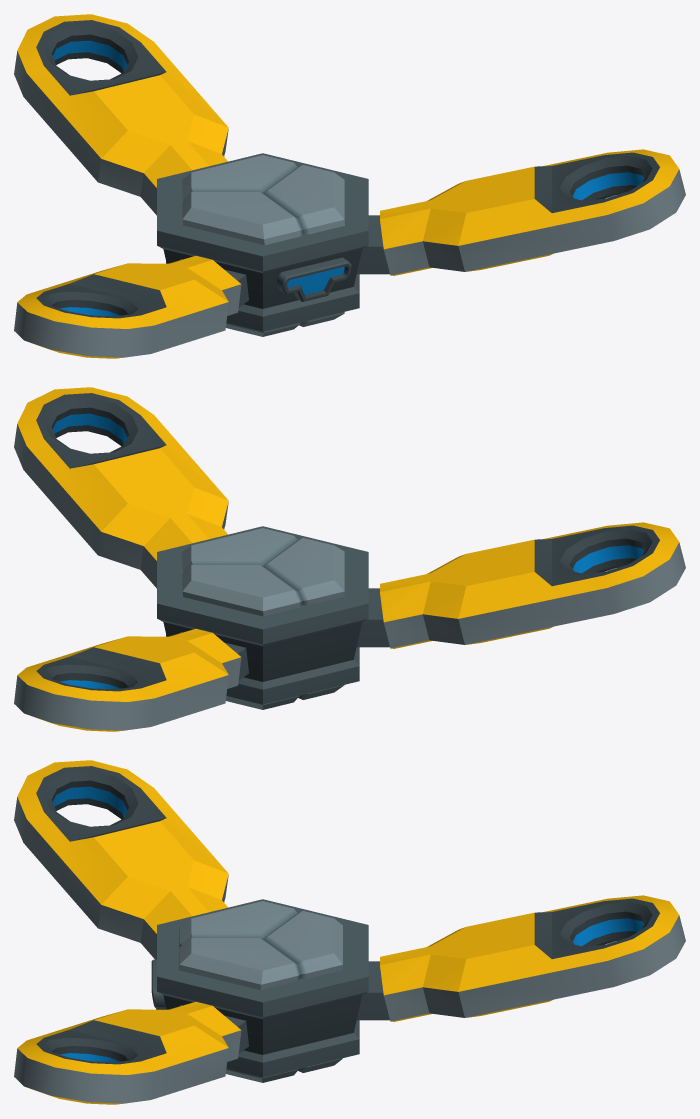
File: Drone_014.fbx
3 views of the same model, one above another, from view 1: azimuth 30°, elevation 25°; view 2: azimuth 150°, elevation 25°; view 3: azimuth 270°, elevation 25° (orthographic).
Visible parts, largest first — view 1: Drone_014; view 2: Drone_014; view 3: Drone_014.
Part boxes in pixels (left/top/right/bottom): Drone_014: left=14, top=14, right=685, bottom=358; Drone_014: left=14, top=387, right=685, bottom=731; Drone_014: left=14, top=760, right=685, bottom=1104.
Bounding box in the file's own units: 87.35 × 77.94 × 17.28.
